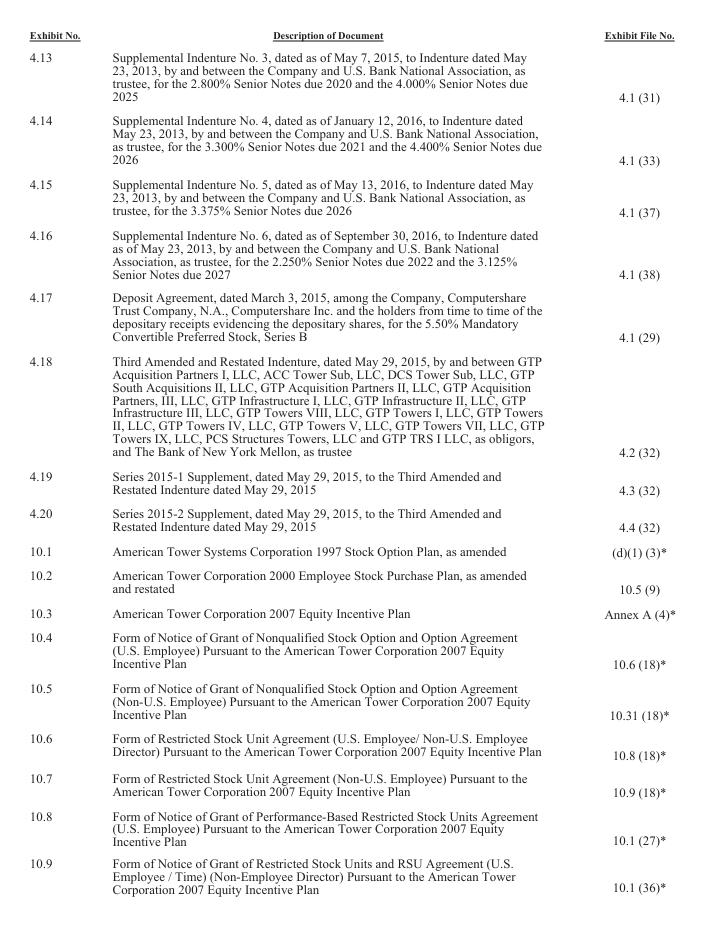table: (28, 29, 675, 895)
table column: (95, 29, 573, 895), (573, 29, 675, 895), (28, 29, 95, 895)
table column header: (28, 29, 675, 45)
table row: (28, 348, 675, 463), (28, 45, 675, 108), (28, 108, 675, 171), (28, 285, 675, 348), (28, 223, 675, 285), (28, 171, 675, 223), (28, 675, 675, 726), (28, 625, 675, 675), (28, 803, 675, 852), (28, 852, 675, 895), (28, 726, 675, 766), (28, 463, 675, 501), (28, 501, 675, 538), (28, 563, 675, 600), (28, 766, 675, 803), (28, 538, 675, 563), (28, 600, 675, 625), (28, 29, 675, 45)
